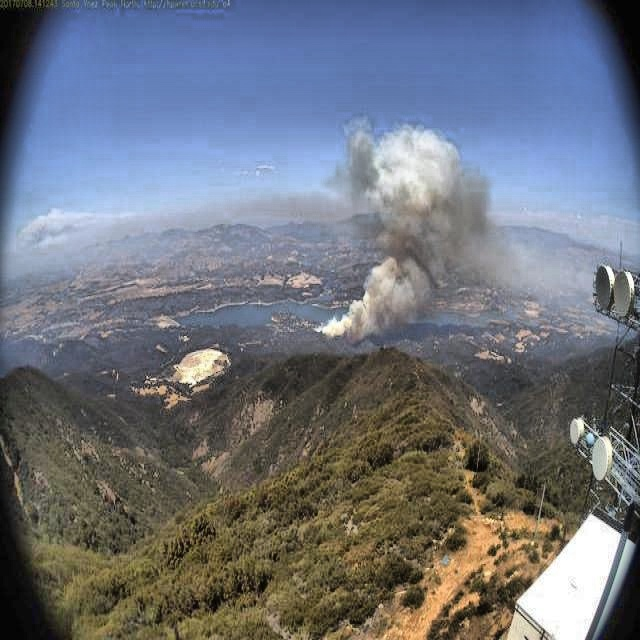smoke: (314, 109, 558, 343)
